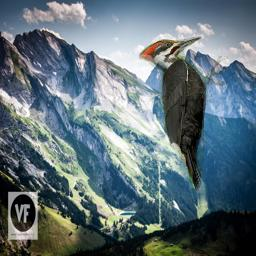Woodpecker: (139, 36, 228, 193)
